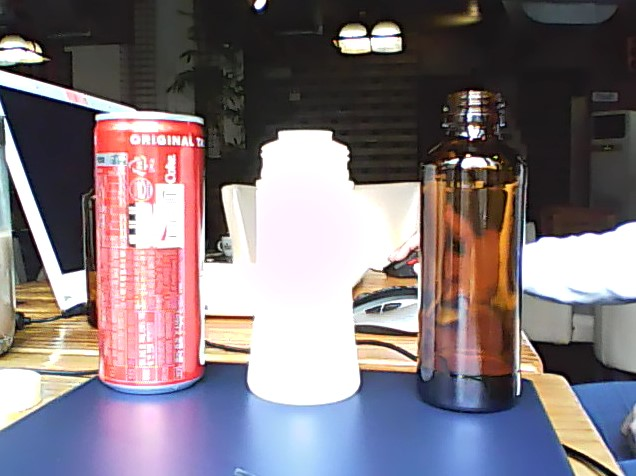Can: (86, 106, 209, 395)
Glass: (417, 90, 528, 415)
Plastic: (241, 127, 364, 403)
